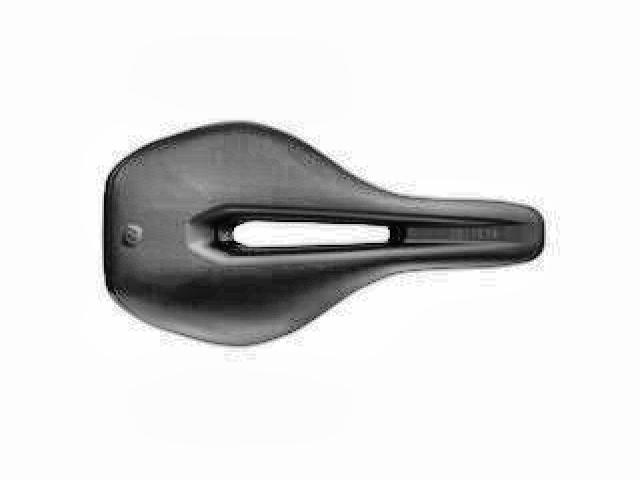saddle: (98, 116, 547, 349)
